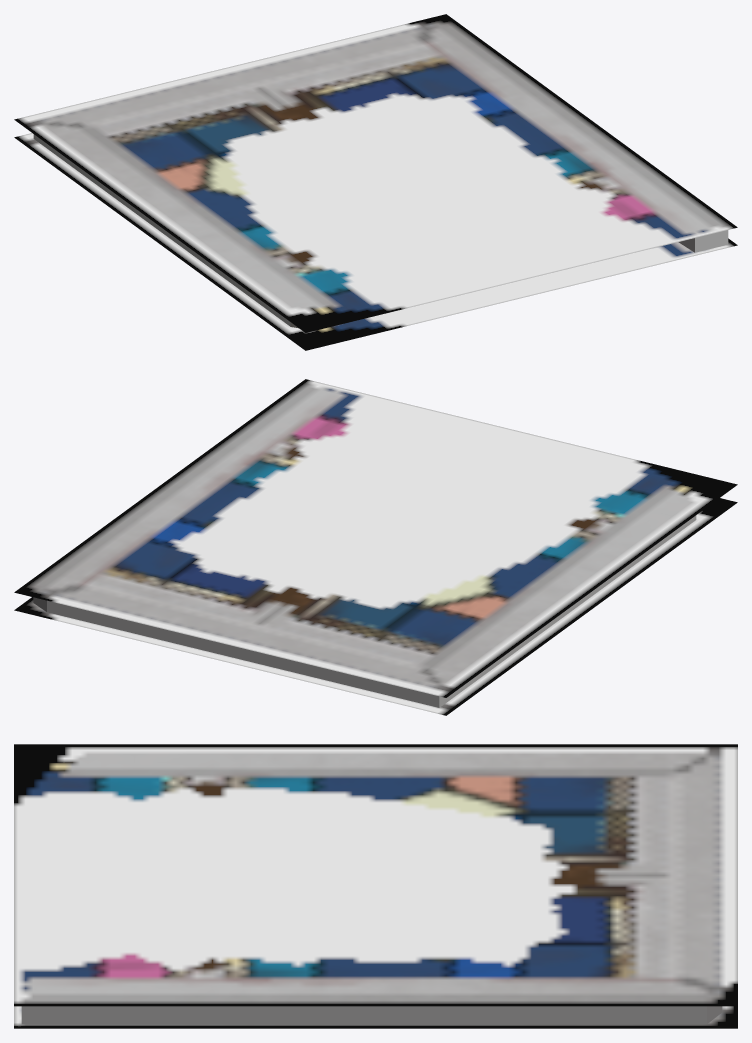
File: pz_native_location_community_church_small_01_253_frame.obj
3 views of the same model, one above another, from view 1: azimuth 30°, elevation 25°; view 2: azimuth 150°, elevation 25°; view 3: azimuth 270°, elevation 25° (orthographic). The views are drawn at different scales.
Visible parts, largest first — view 1: pz_native_location_community_church_small_01_253_frame; view 2: pz_native_location_community_church_small_01_253_frame; view 3: pz_native_location_community_church_small_01_253_frame.
Part boxes in pixels (box(x1,y1,x2,y2)): pz_native_location_community_church_small_01_253_frame: box(14, 14, 737, 350); pz_native_location_community_church_small_01_253_frame: box(14, 379, 737, 715); pz_native_location_community_church_small_01_253_frame: box(14, 744, 737, 1028).
Bounding box in the file's own units: 1.02 × 0.04 × 1.19.
Materials: 1 (1 with a texture image).
